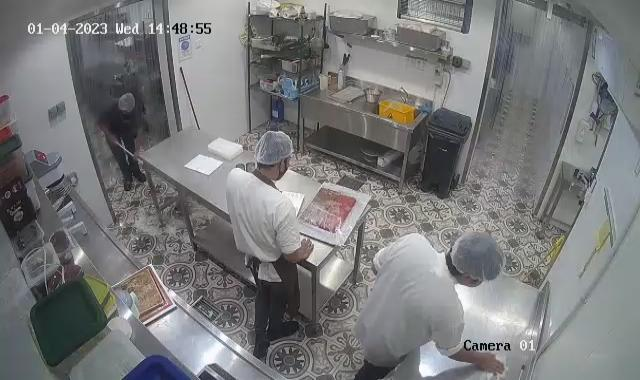hairnet: (448, 231, 503, 282), (252, 131, 296, 165)
